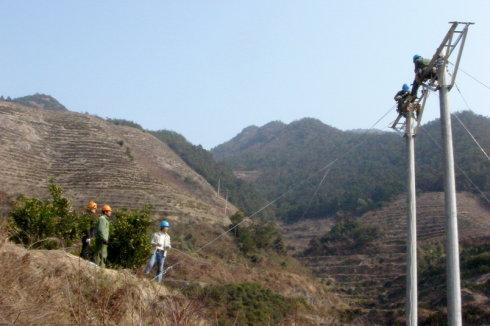hard-hat: (101, 204, 111, 212), (86, 200, 96, 208), (413, 55, 422, 63), (160, 220, 170, 226), (401, 84, 409, 90)
person: (143, 219, 172, 282), (410, 53, 439, 99), (391, 82, 419, 128), (93, 203, 112, 267), (80, 199, 98, 261)
